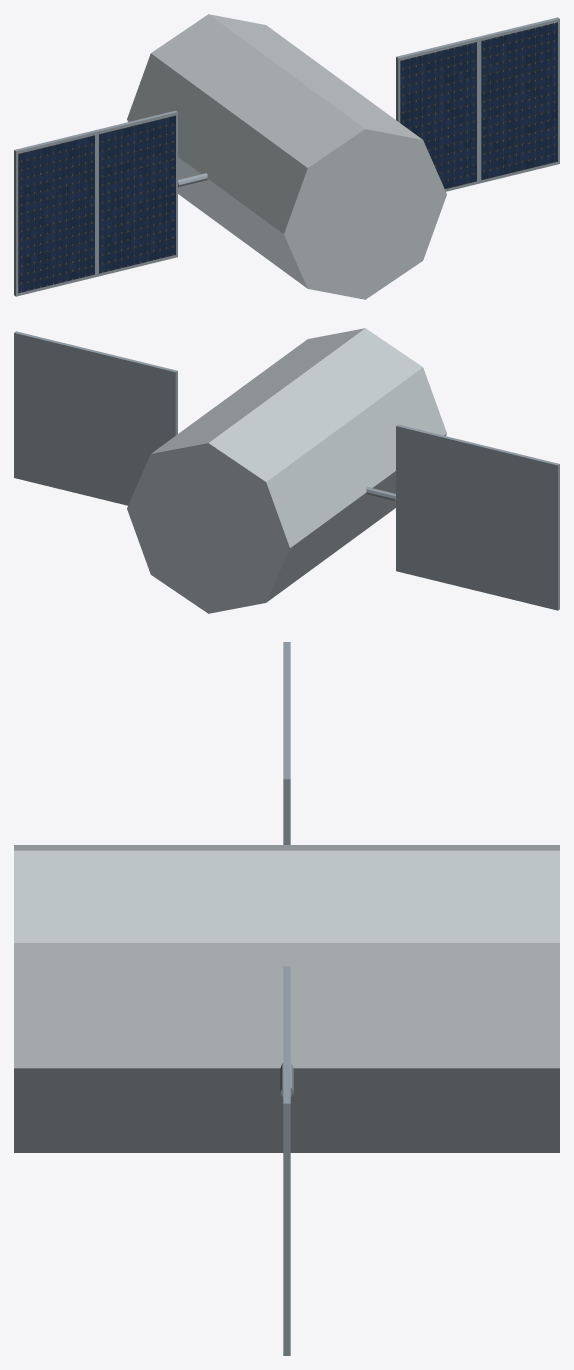
Rendered from ref-orbitalexpress-30772.glb.
The picture shows the model from 3 angles, top to bottom: view 1: azimuth 30°, elevation 25°; view 2: azimuth 150°, elevation 25°; view 3: azimuth 270°, elevation 25°; orthographic projection. The views are drawn at different scales.
Parts seen in each view (by area): view 1: Spacecraft body, Photovoltaic laminates (×4), Array frame (×4); view 2: Spacecraft body, Array frame (×4); view 3: Spacecraft body, Array frame (×2).
Part boxes in pixels (x1=…): Spacecraft body: x1=127, y1=14, x2=446, y2=299; Photovoltaic laminates (×4): x1=18, y1=22, x2=557, y2=293; Array frame (×4): x1=14, y1=17, x2=559, y2=296; Spacecraft body: x1=127, y1=328, x2=446, y2=613; Array frame (×4): x1=14, y1=331, x2=559, y2=610; Spacecraft body: x1=14, y1=845, x2=559, y2=1152; Array frame (×2): x1=283, y1=710, x2=290, y2=1355.
Bounding box in the file's own units: 5 × 1.5 × 2.5.
3 materials, 1 textured.
